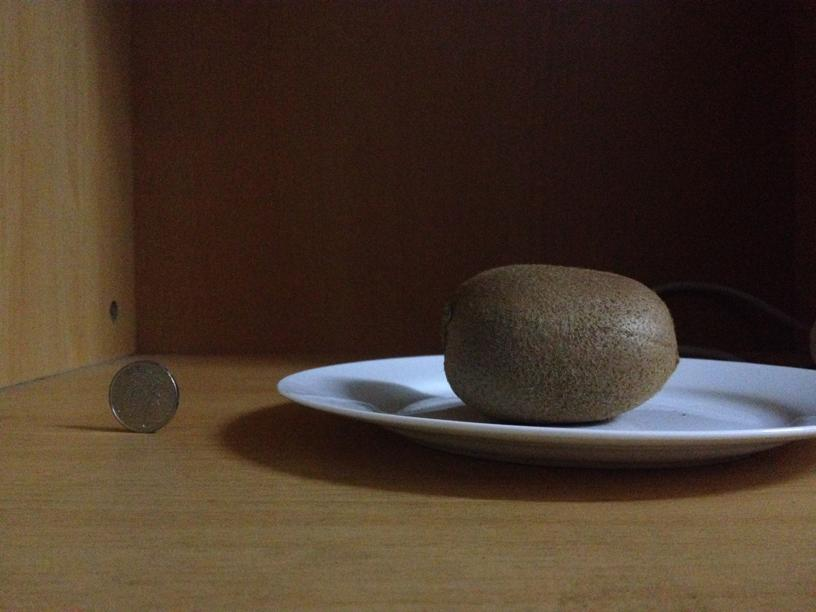coin: (106, 360, 179, 433)
qiwi: (430, 266, 678, 423)
